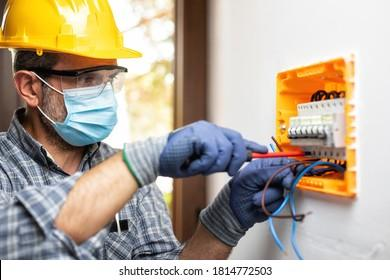gloves: (122, 118, 271, 187), (197, 157, 306, 247)
